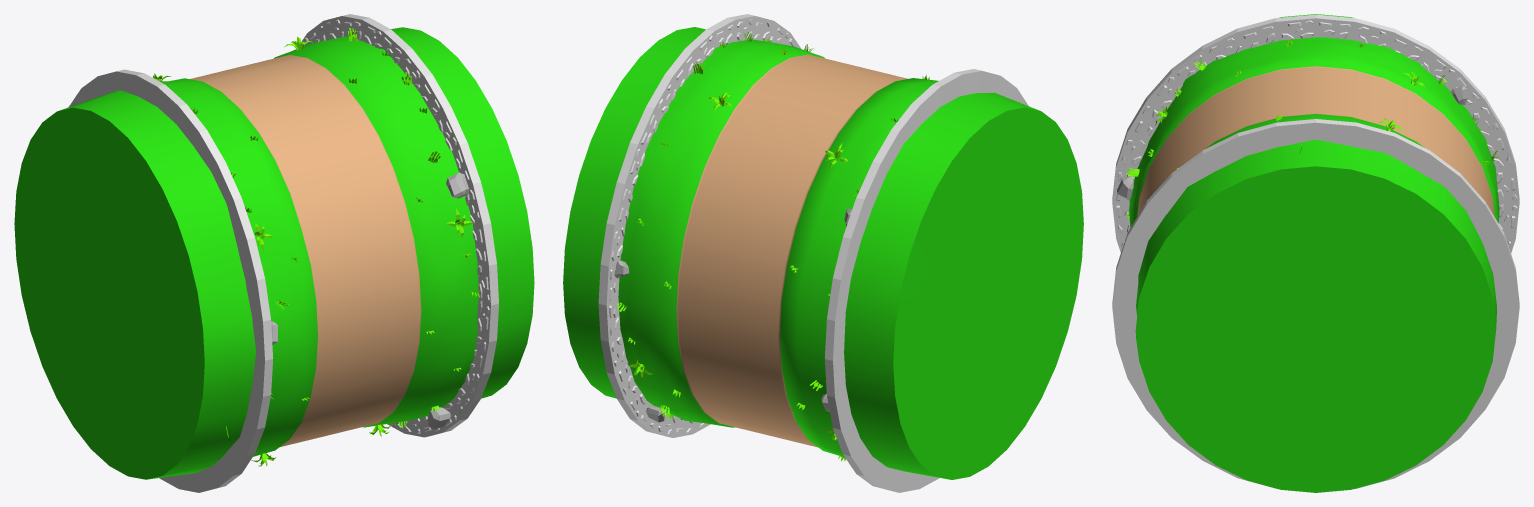
File: New_Mundo.fbx
3 views of the same model, side by side, from view 1: azimuth 30°, elevation 25°; view 2: azimuth 150°, elevation 25°; view 3: azimuth 270°, elevation 25° (orthographic). The views are drawn at different scales.
Parts seen in each view (by area): view 1: mundo, parede, grama; view 2: mundo, parede, grama; view 3: mundo, parede, grama.
Part boxes in pixels (x1,y1,x2,y2): mundo: [14, 27, 534, 479]; parede: [69, 14, 498, 492]; grama: [153, 27, 480, 466]; mundo: [563, 27, 1083, 479]; parede: [598, 14, 1028, 492]; grama: [614, 31, 929, 461]; mundo: [1129, 14, 1499, 492]; parede: [1112, 14, 1519, 488]; grama: [1117, 39, 1499, 219].
Size of the model in its own units: 17.55 by 19.86 by 19.83.
